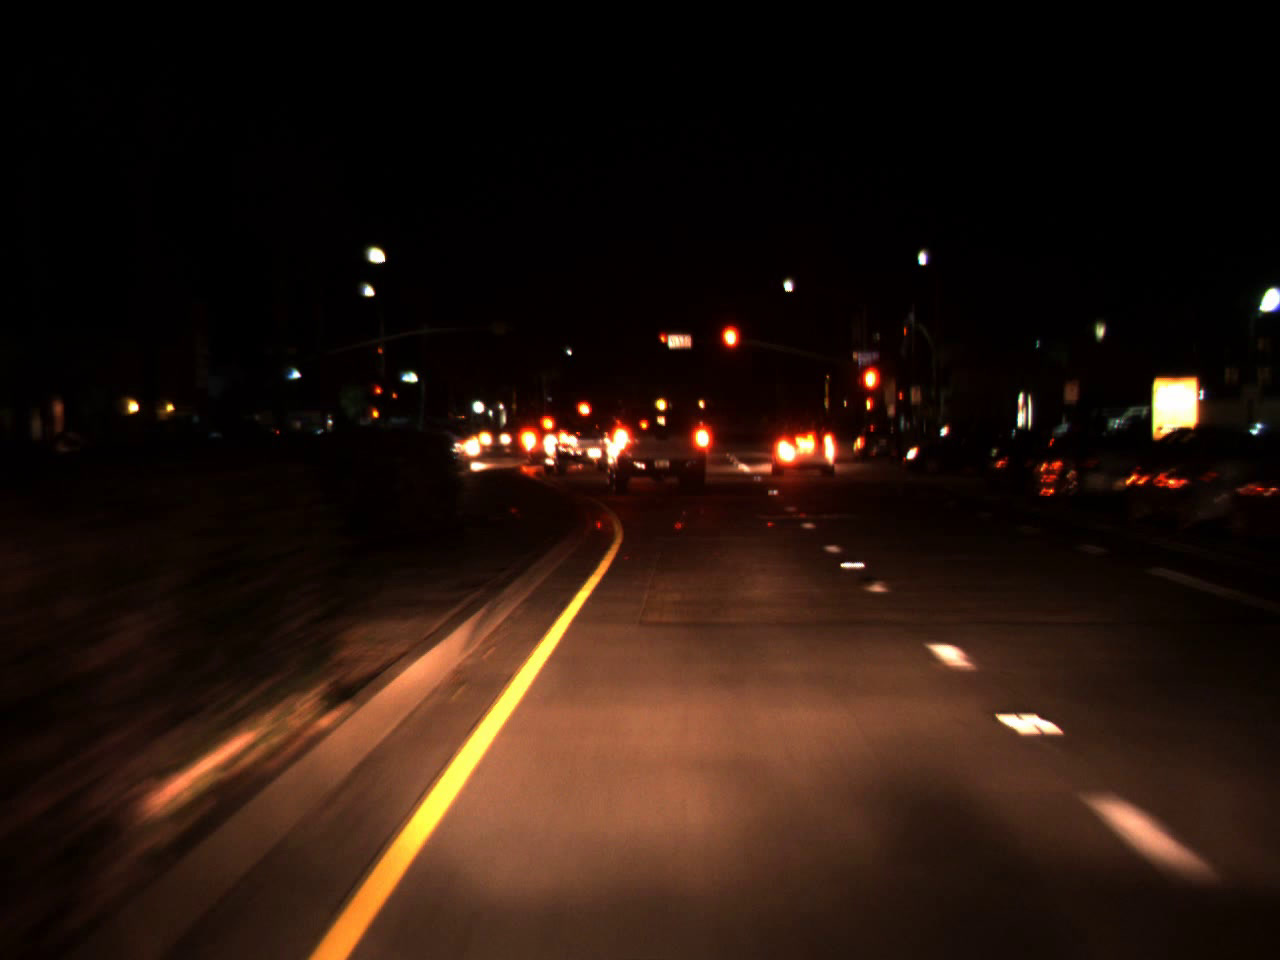stop: (859, 362, 883, 421), (719, 322, 741, 376), (658, 334, 670, 350), (374, 385, 383, 401)
